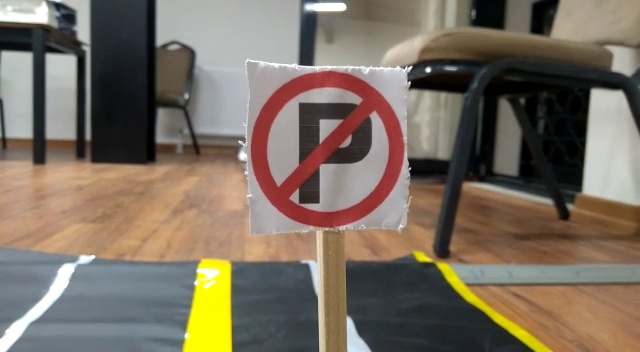park_yapilmaz: (246, 63, 408, 226)
